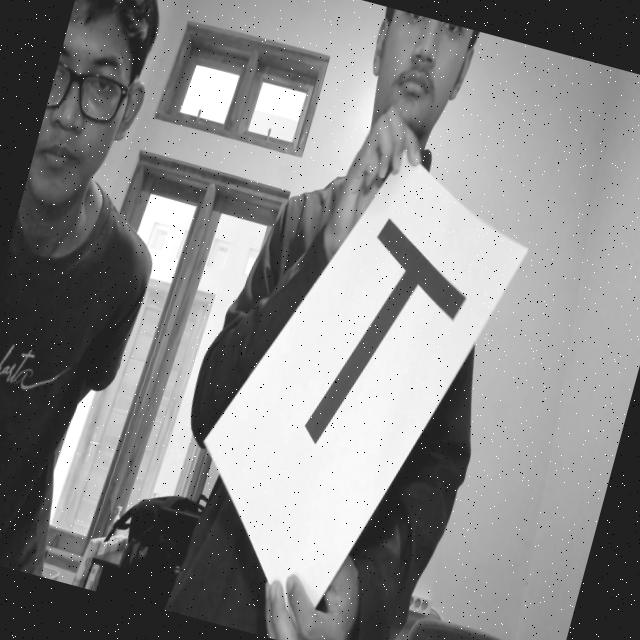t: (266, 185, 490, 502)
